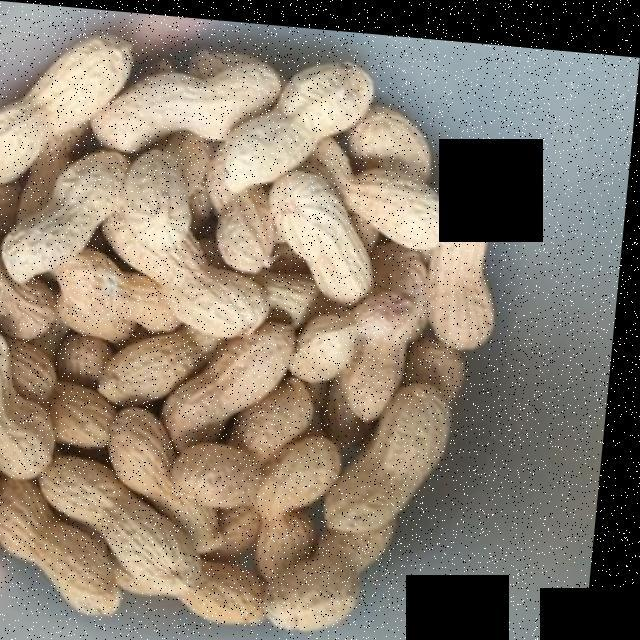nut: (0, 37, 498, 612)
